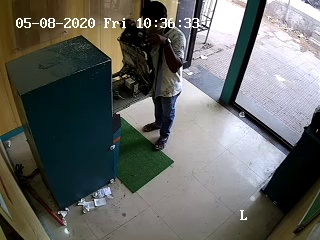open: (187, 3, 267, 112)
